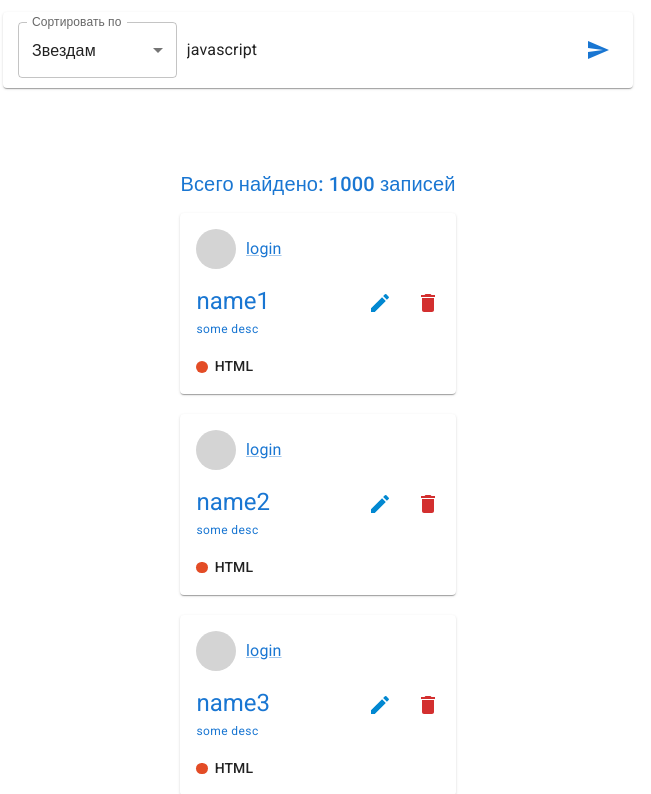
ItemsWidget › show progress on send click
The width and height of the screenshot is (651, 794).
Click the button with test id "ItemsWidget_sendButton": (598, 50) [578, 30, 618, 70]
(page scrolled)
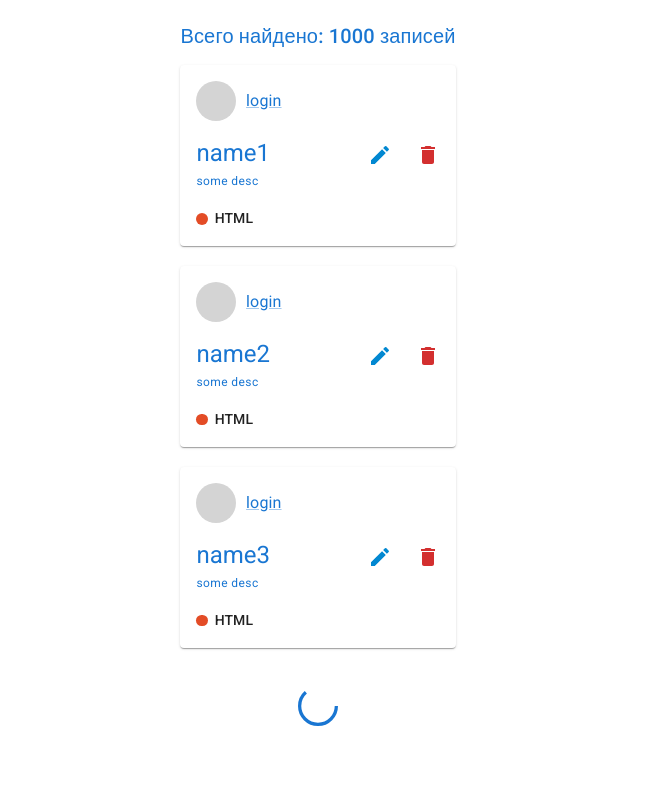
Result: the progress indicator with test id "ItemsWidget_progress" is shown at [298, 686, 338, 726]
